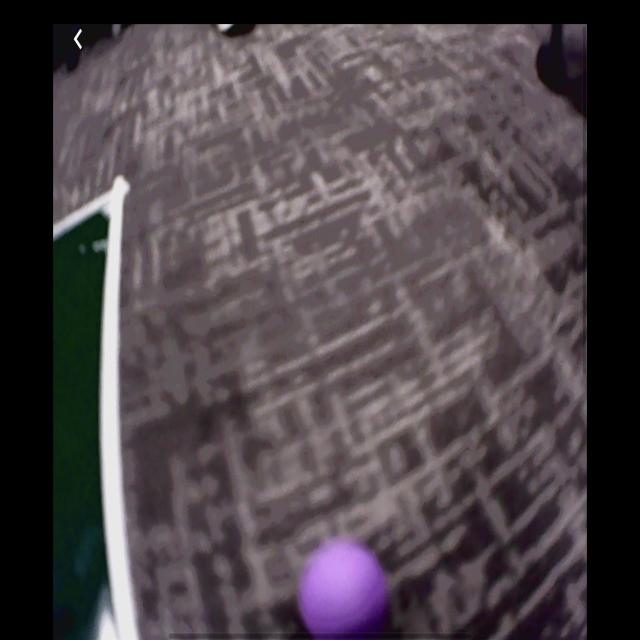ball: (297, 538, 392, 638)
